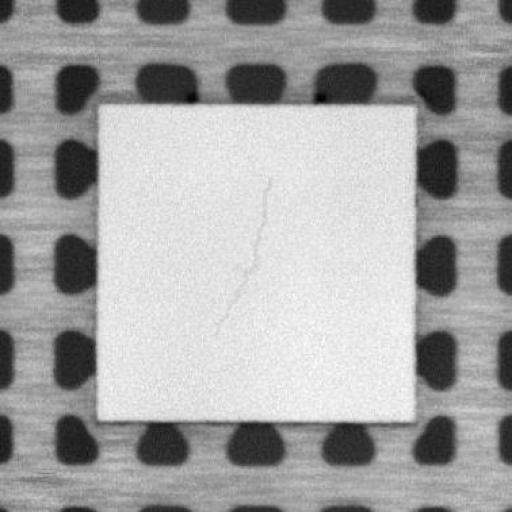DIE_CRACK: (208, 174, 271, 336)
